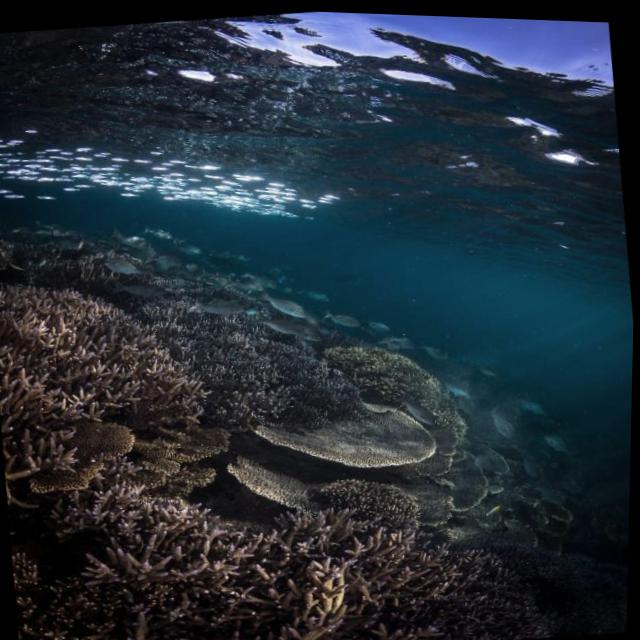Healthy Coral: (0, 256, 264, 547), (9, 481, 448, 640), (205, 320, 478, 509)
